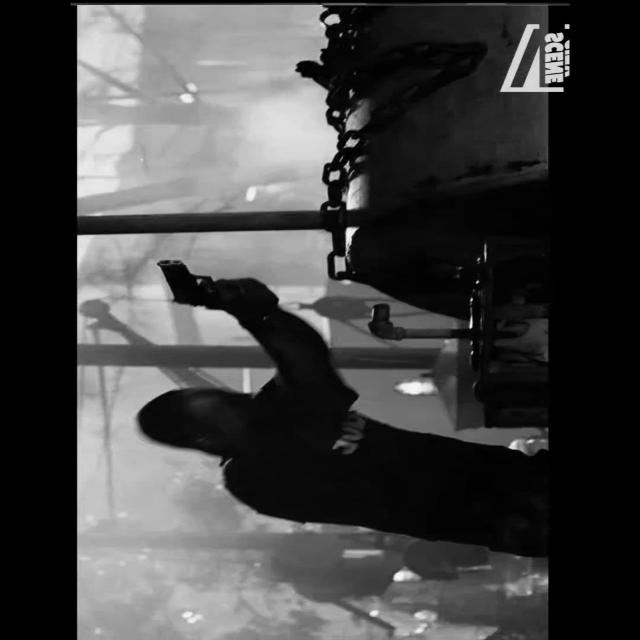weapons: (144, 247, 284, 313)
